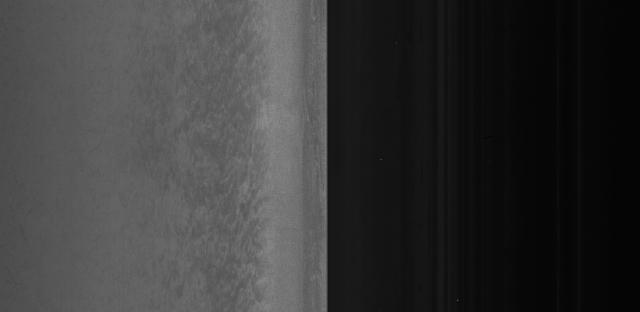silk_spot: (202, 74, 278, 266)
